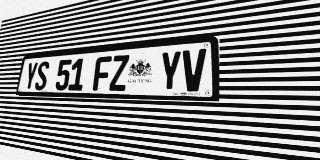1: (68, 58, 86, 91)
5: (55, 59, 72, 90)
F: (92, 56, 112, 91)
S: (34, 61, 50, 90)
V: (181, 48, 206, 92)
Y: (158, 50, 182, 91), (23, 62, 38, 90)
Z: (109, 55, 129, 91)
